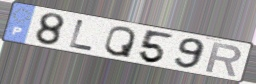5: (136, 28, 177, 64)
8: (34, 12, 67, 47)
9: (173, 37, 207, 71)
L: (67, 18, 96, 53)
Q: (102, 25, 138, 59)
R: (203, 41, 244, 78)
